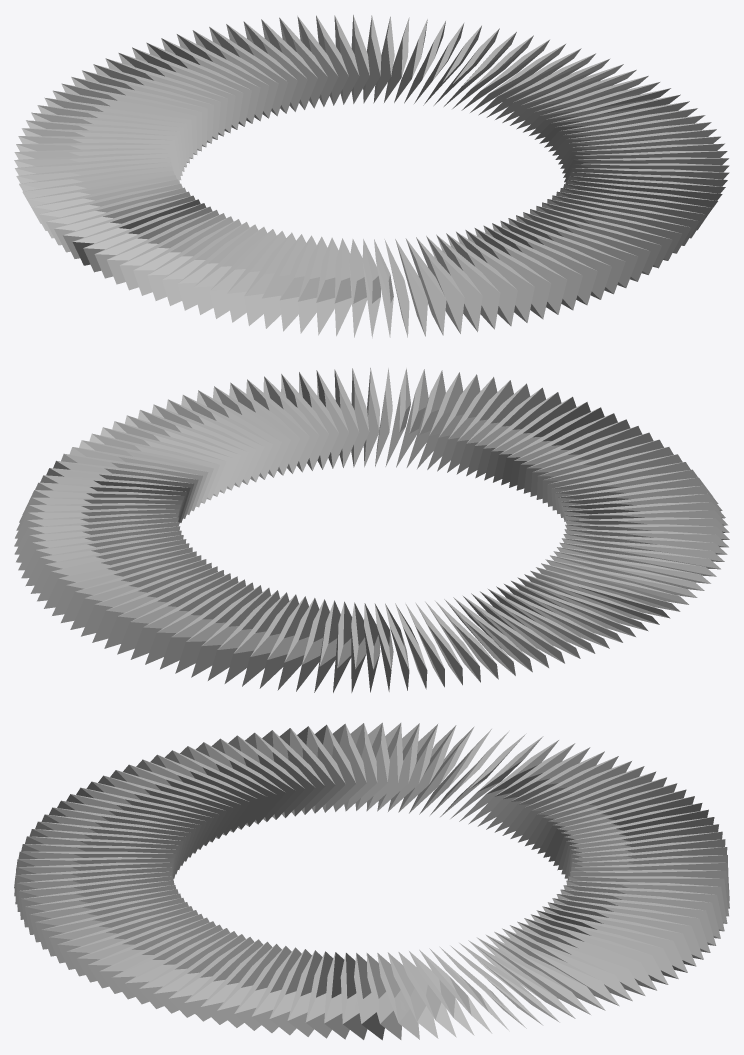
The model's file is spiral-fins.glb.
3 renders of one model, top to bottom at view 1: azimuth 30°, elevation 25°; view 2: azimuth 150°, elevation 25°; view 3: azimuth 270°, elevation 25°, orthographic.
Parts seen in each view (by area): view 1: Cube.011; view 2: Cube.011; view 3: Cube.011.
Boxes of the visible parts, box(x1,y1,x2,y2) form: Cube.011: box(14, 15, 729, 338); Cube.011: box(14, 368, 729, 692); Cube.011: box(14, 722, 729, 1040).
Bounding box in the file's own units: 1.32 × 0.0684 × 1.32.
Materials: 1 (1 with a texture image).
